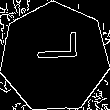L_W: (30, 41, 80, 74)
